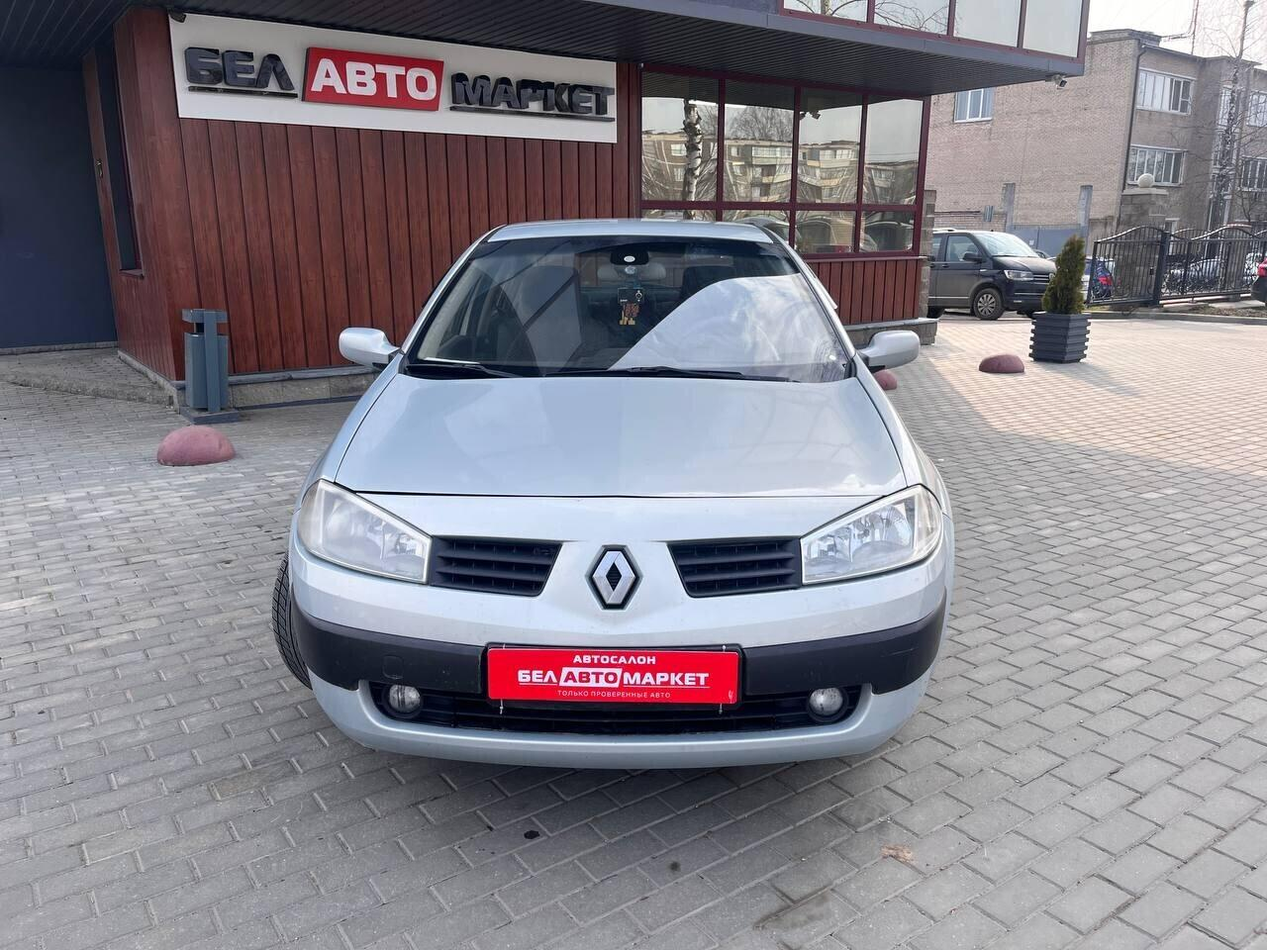Megane_2002-2006: (270, 219, 951, 795)
